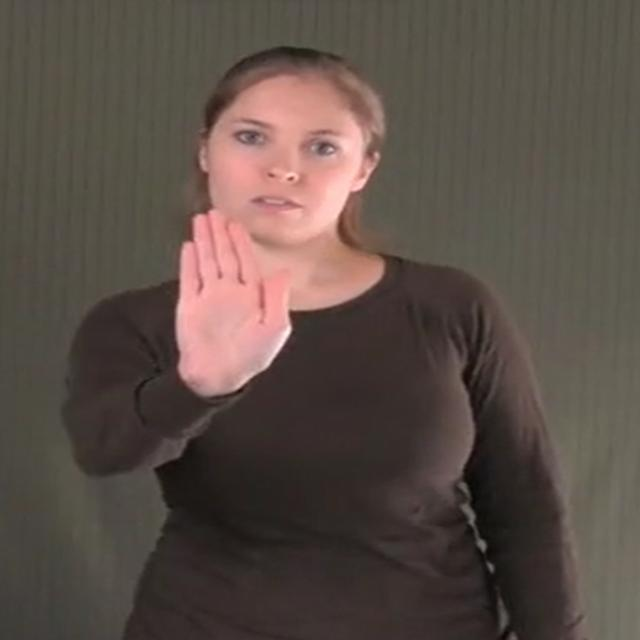your: (176, 210, 292, 372)
